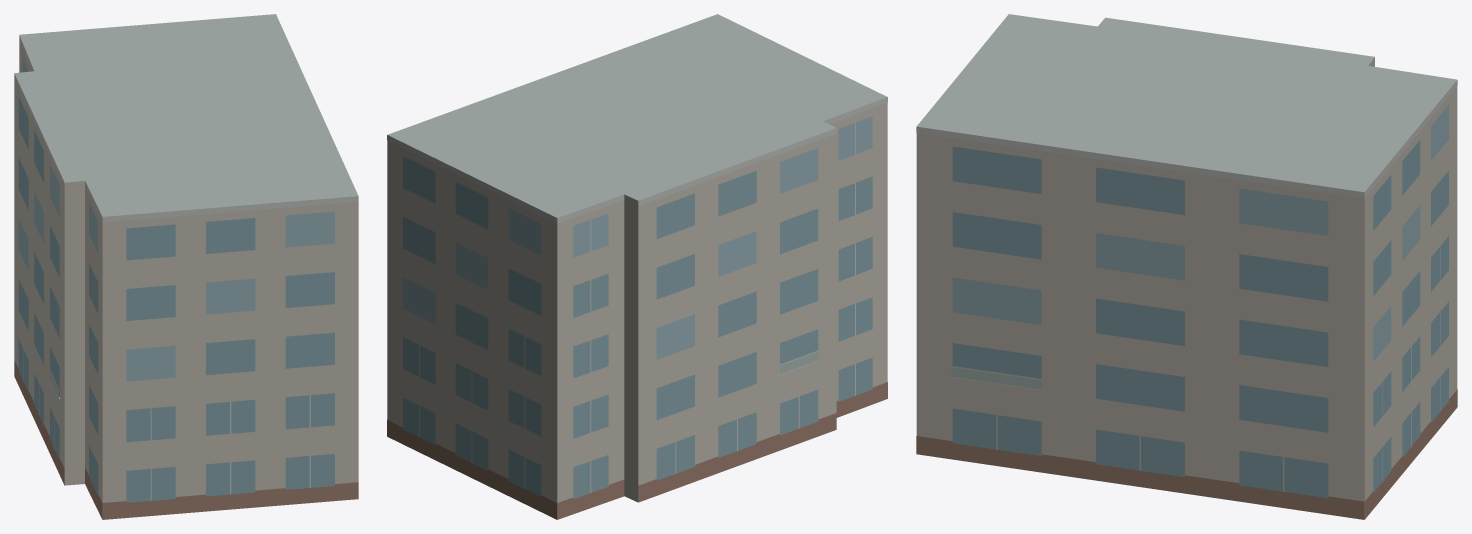
File: survey-upis-32970799.glb
3 views of the same model, side by side, from view 1: azimuth 30°, elevation 25°; view 2: azimuth 150°, elevation 25°; view 3: azimuth 270°, elevation 25° (orthographic). The views are drawn at different scales.
Visible parts, largest first — view 1: survey-upis-32970799.tmp; view 2: survey-upis-32970799.tmp; view 3: survey-upis-32970799.tmp.
Part boxes in pixels (x1,y1,x2,y2): survey-upis-32970799.tmp: (14,14,358,519); survey-upis-32970799.tmp: (387,14,887,519); survey-upis-32970799.tmp: (916,14,1457,519).
Bounding box in the file's own units: 15.42 × 13.2 × 19.77.
